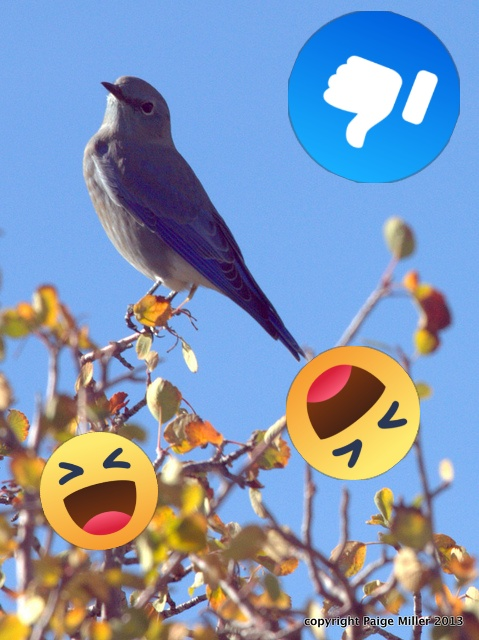haha: (286, 346, 420, 480), (40, 432, 158, 550)
like: (288, 11, 460, 183)
